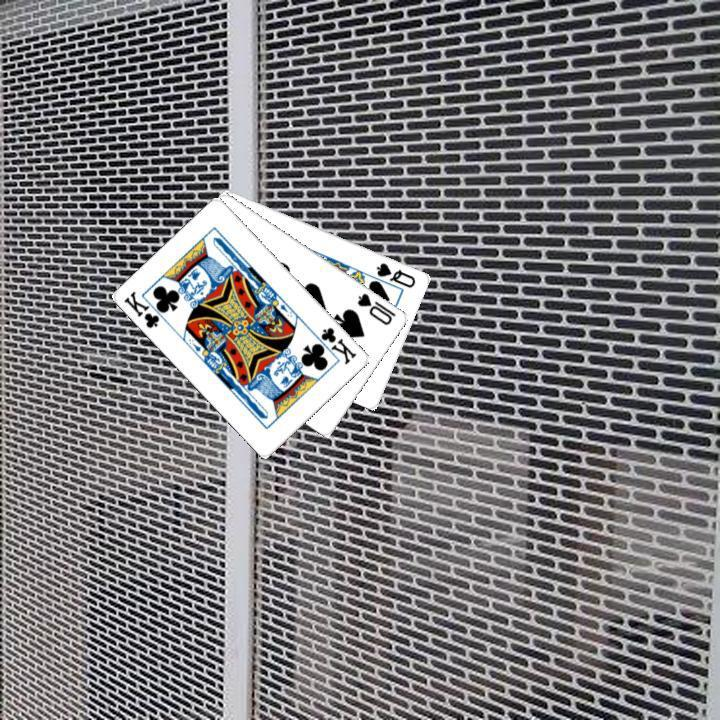10: (353, 288, 398, 327)
K: (308, 323, 359, 367), (120, 287, 171, 331)
Q: (372, 258, 418, 290)
